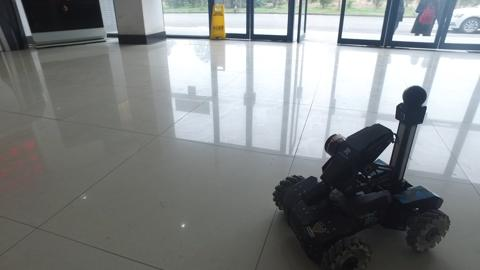chariot: (270, 84, 451, 270)
